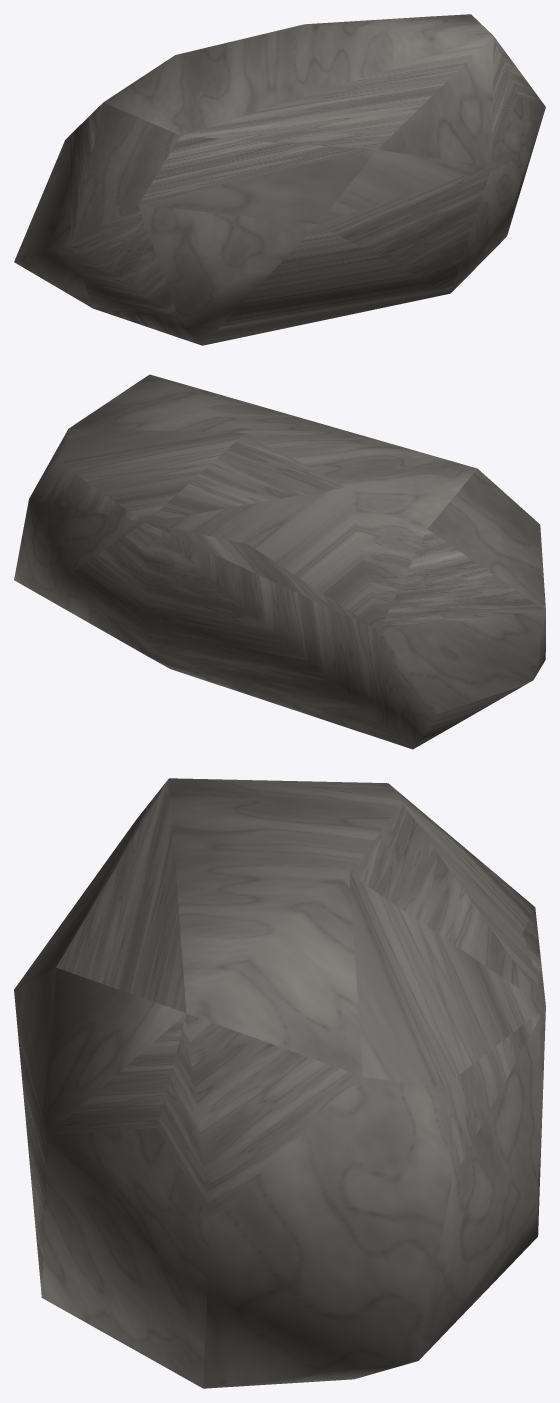
Rendered from LongBoulder_Hull.fbx.
The picture shows the model from 3 angles, top to bottom: view 1: azimuth 30°, elevation 25°; view 2: azimuth 150°, elevation 25°; view 3: azimuth 270°, elevation 25°; orthographic projection. The views are drawn at different scales.
Parts seen in each view (by area): view 1: LongBoulder_Hull; view 2: LongBoulder_Hull; view 3: LongBoulder_Hull.
Part boxes in pixels (x1,y1,x2,y2): LongBoulder_Hull: [14, 14, 545, 345]; LongBoulder_Hull: [14, 374, 545, 749]; LongBoulder_Hull: [14, 778, 545, 1388].
Size of the model in its own units: 4.16 by 1.82 by 2.25.
